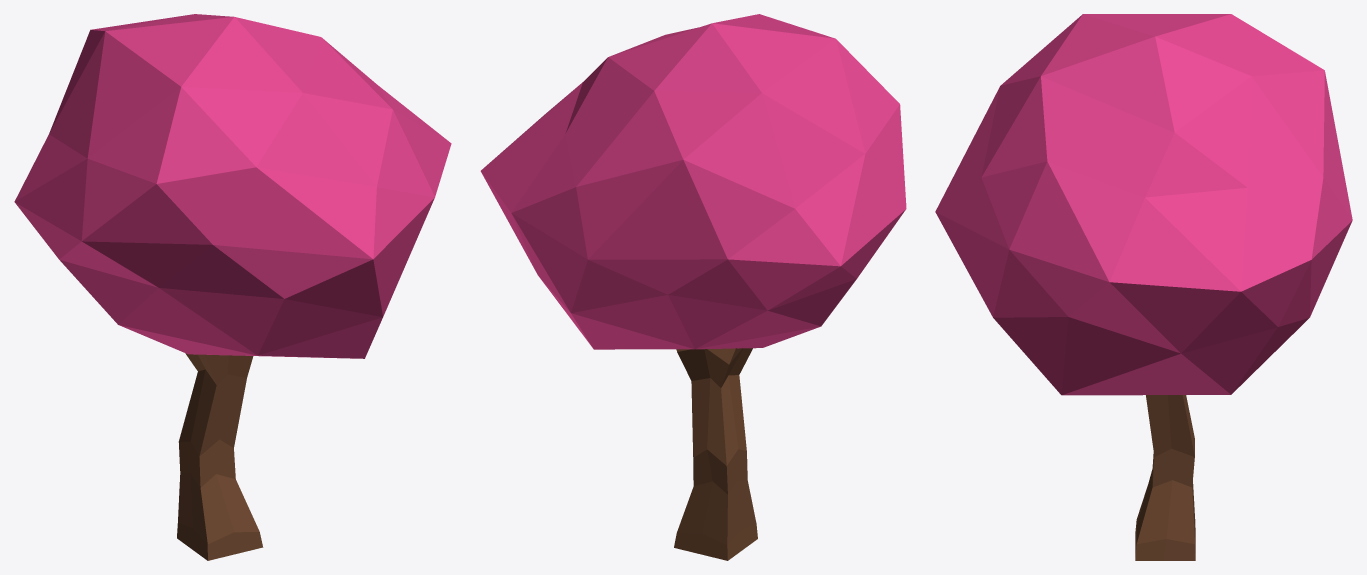
File: Tree_32_Pink.fbx
The picture shows the model from 3 angles, left to right: view 1: azimuth 30°, elevation 25°; view 2: azimuth 150°, elevation 25°; view 3: azimuth 270°, elevation 25°; orthographic projection. The views are drawn at different scales.
Visible parts, largest first — view 1: Tree_32_Pink_Part_1, Tree_32_Pink_Part_2; view 2: Tree_32_Pink_Part_1, Tree_32_Pink_Part_2; view 3: Tree_32_Pink_Part_1, Tree_32_Pink_Part_2.
Boxes of the visible parts, bbox=[...] form: Tree_32_Pink_Part_1: bbox=[14, 14, 451, 358]; Tree_32_Pink_Part_2: bbox=[177, 353, 263, 560]; Tree_32_Pink_Part_1: bbox=[480, 14, 906, 349]; Tree_32_Pink_Part_2: bbox=[674, 348, 757, 560]; Tree_32_Pink_Part_1: bbox=[935, 14, 1352, 395]; Tree_32_Pink_Part_2: bbox=[1135, 395, 1195, 560].
Size of the model in its own units: 597 by 814 by 598.
